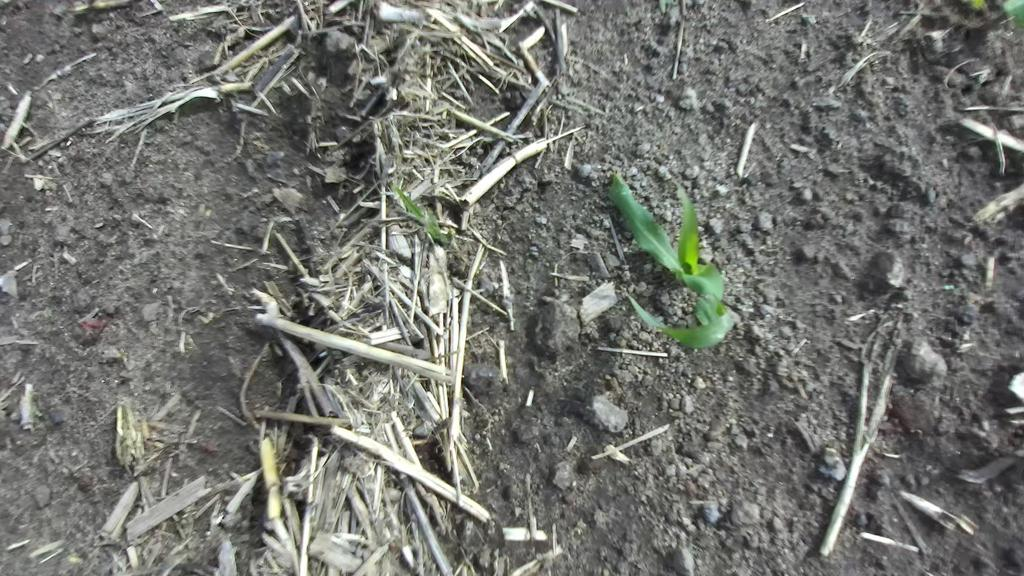BroWeed: (718, 268, 729, 282)
Maize: (580, 146, 746, 368)
NarWeed: (387, 182, 460, 250)
